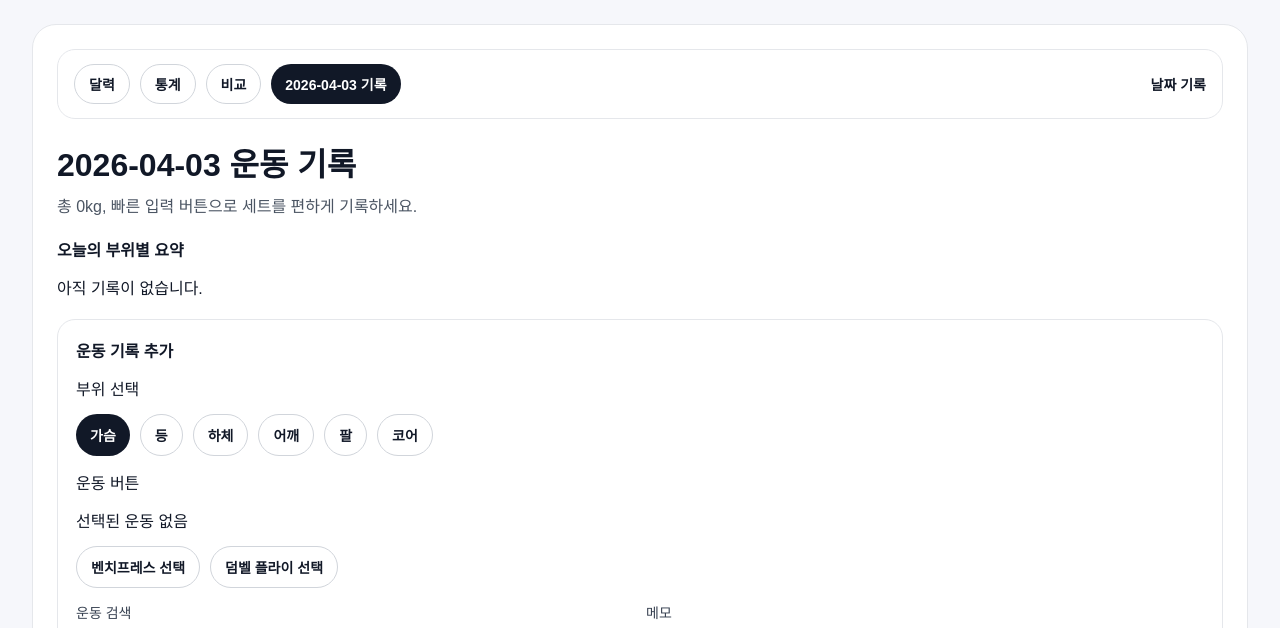
Test: DailyRecordPanel › 중량과 횟수 빠른 버튼은 현재 세트 값에 더하기로 동작해야 한다
What coordinates should you click on to do the following:
click the button "벤치프레스 선택"
I would click on:
 (138, 567)
Its box is [76,546,200,588].
(page scrolled)
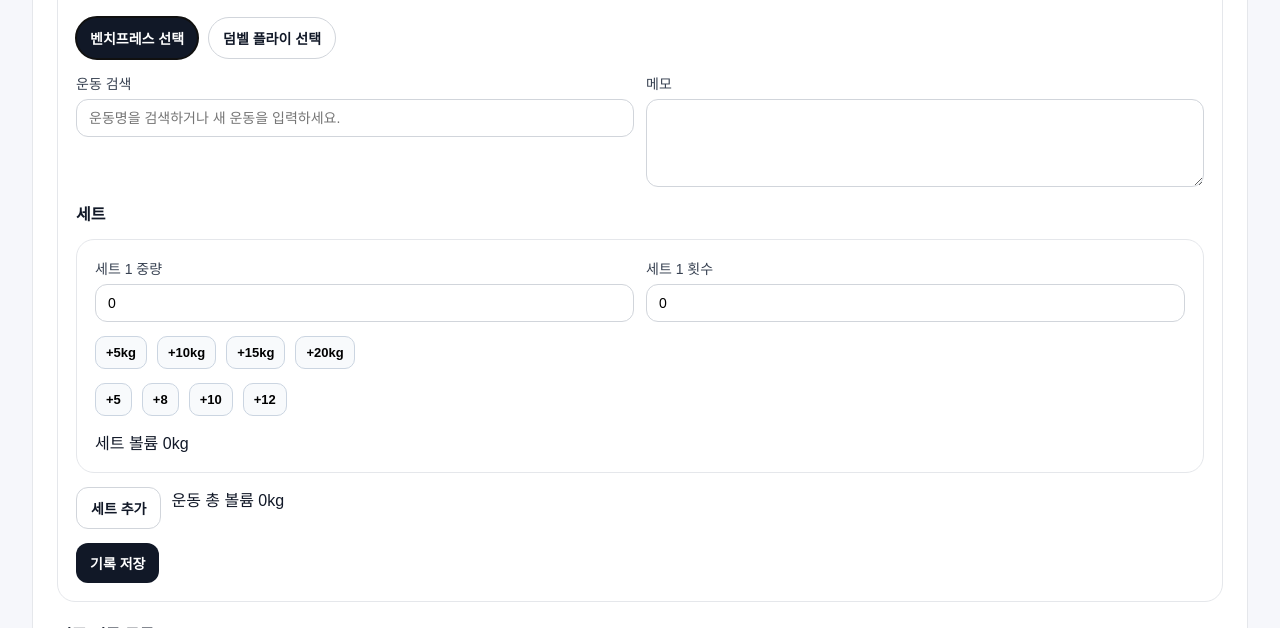
What coordinates should you click on to do the following:
click the button with aria-label "세트 1 중량 +10kg"
I would click on:
 (187, 352)
Its box is [157,336,216,369].
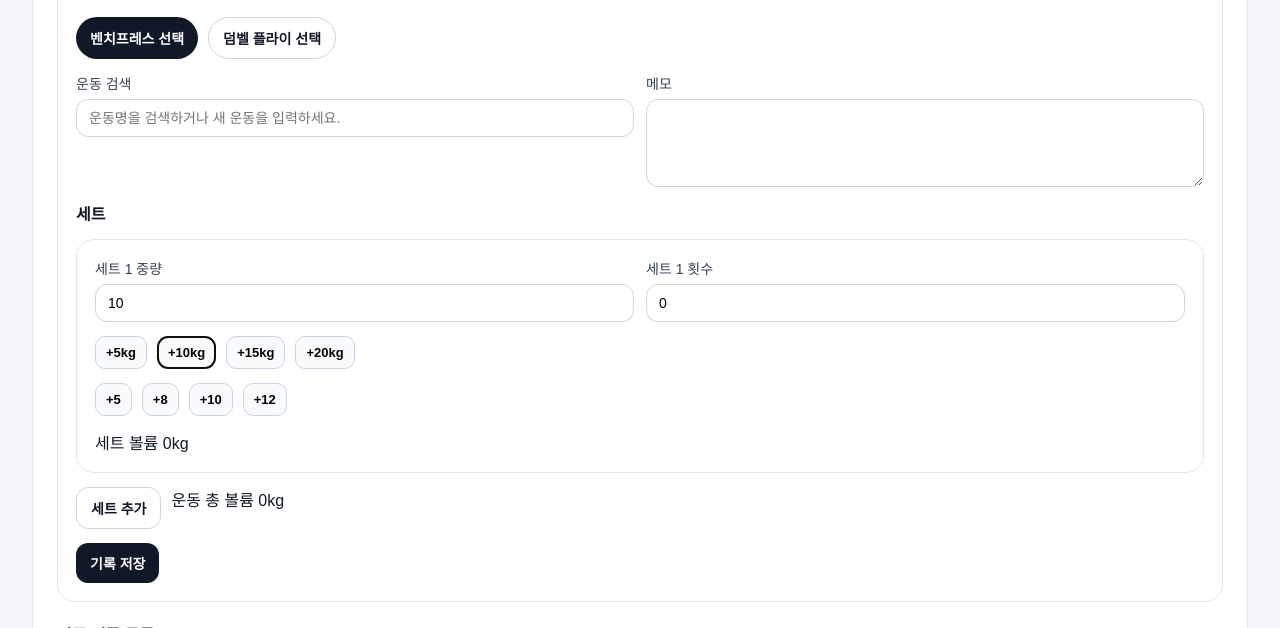
What coordinates should you click on to do the following:
click the button with aria-label "세트 1 중량 +20kg"
I would click on:
 (325, 352)
Its box is [296,336,355,369].
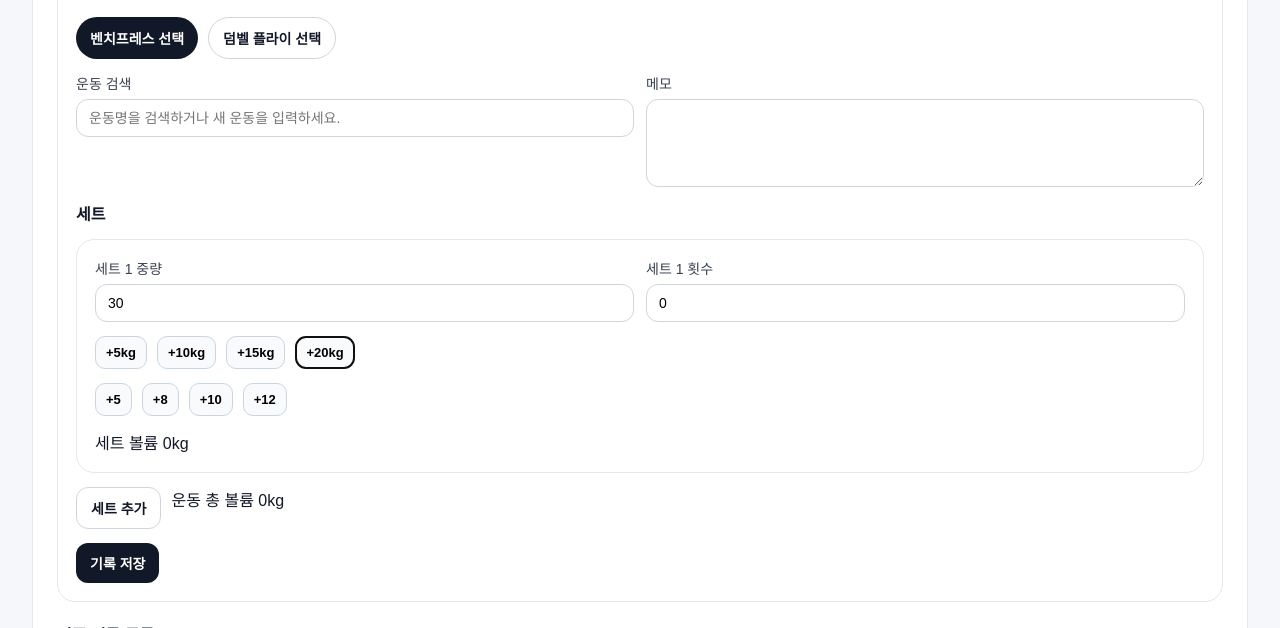
What coordinates should you click on to do the following:
click the button named "세트 1 횟수 +8"
I would click on:
 (160, 400)
Its box is [142,383,179,416].
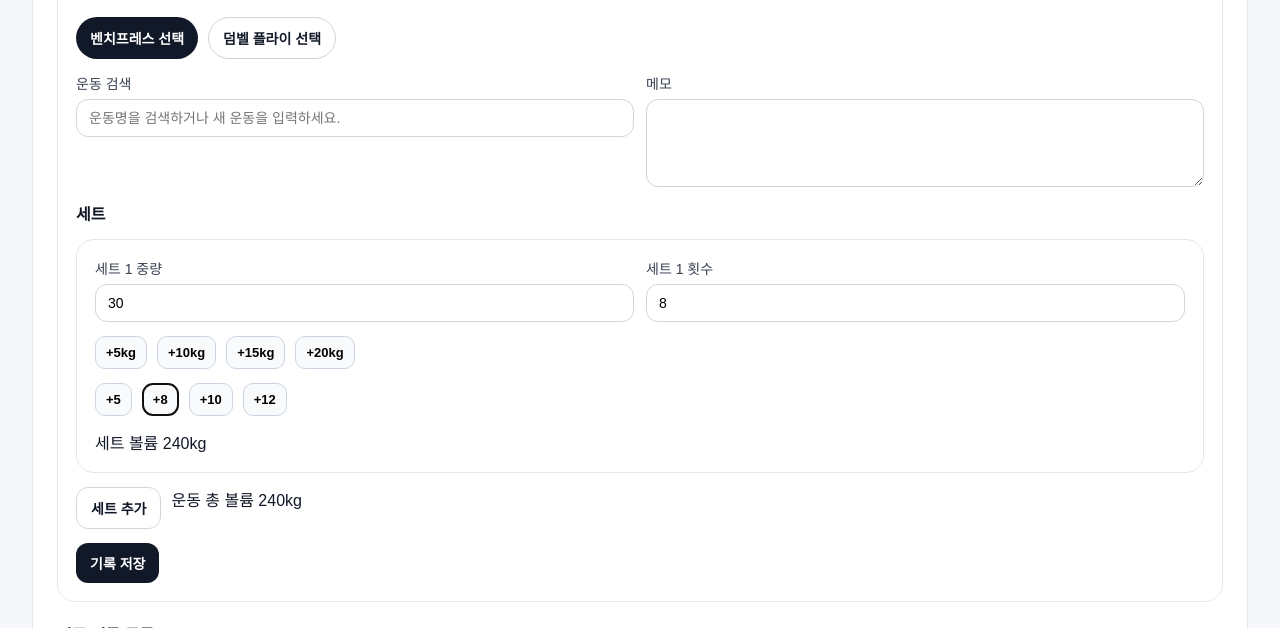
What coordinates should you click on to do the following:
click the button named "세트 1 횟수 +12"
I would click on:
 (265, 400)
Its box is [243,383,287,416].
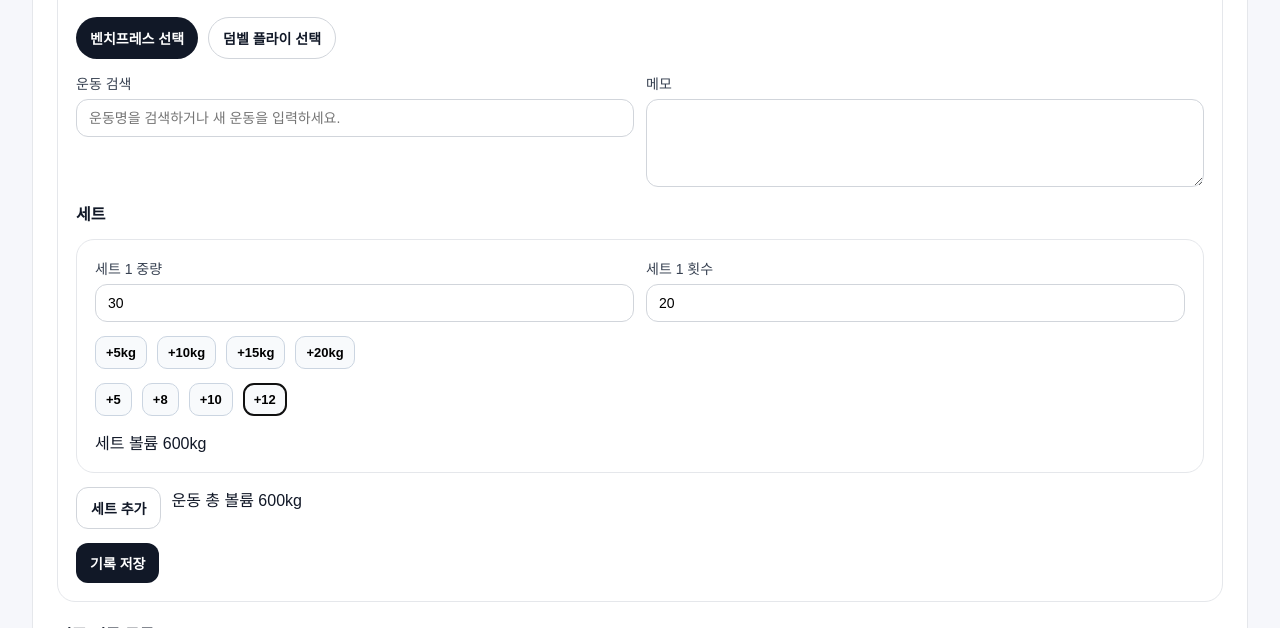
Result: the number field labelled "세트 1 중량" holds "30" at [95,284,634,322]
Result: the number field labelled "세트 1 횟수" holds "20" at [646,284,1185,322]
Result: the text "운동 총 볼륨 600kg" is shown at [171,492,302,509]
